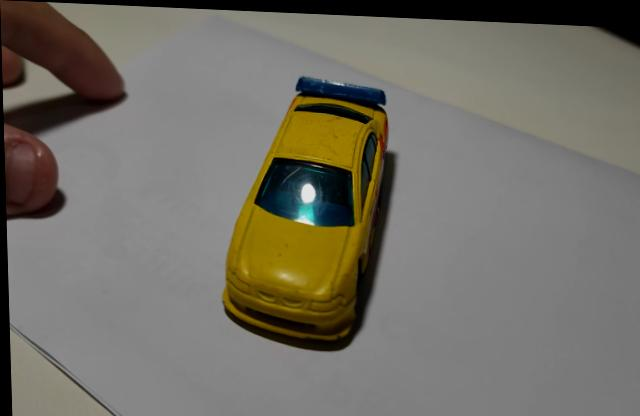02_OZSOME: (220, 75, 388, 338)
